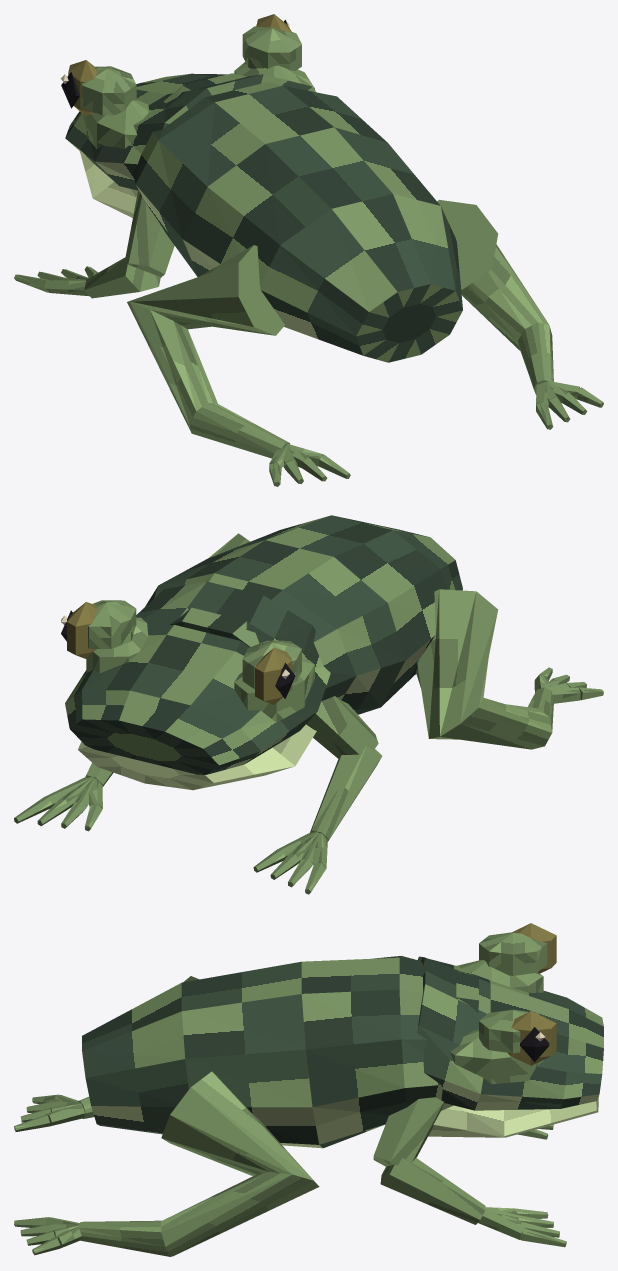
File: mon_mink_frog.glb
The picture shows the model from 3 angles, top to bottom: view 1: azimuth 30°, elevation 25°; view 2: azimuth 150°, elevation 25°; view 3: azimuth 270°, elevation 25°; orthographic projection. The views are drawn at different scales.
Visible parts, largest first — view 1: closed_body; view 2: closed_body; view 3: closed_body.
Boxes of the visible parts, left/top/right/bottom form: closed_body: left=14, top=14, right=603, bottom=486; closed_body: left=14, top=515, right=603, bottom=894; closed_body: left=14, top=923, right=603, bottom=1256.
Size of the model in its own units: 0.1184 by 0.0691 by 0.1737.
1 material, 1 textured.
